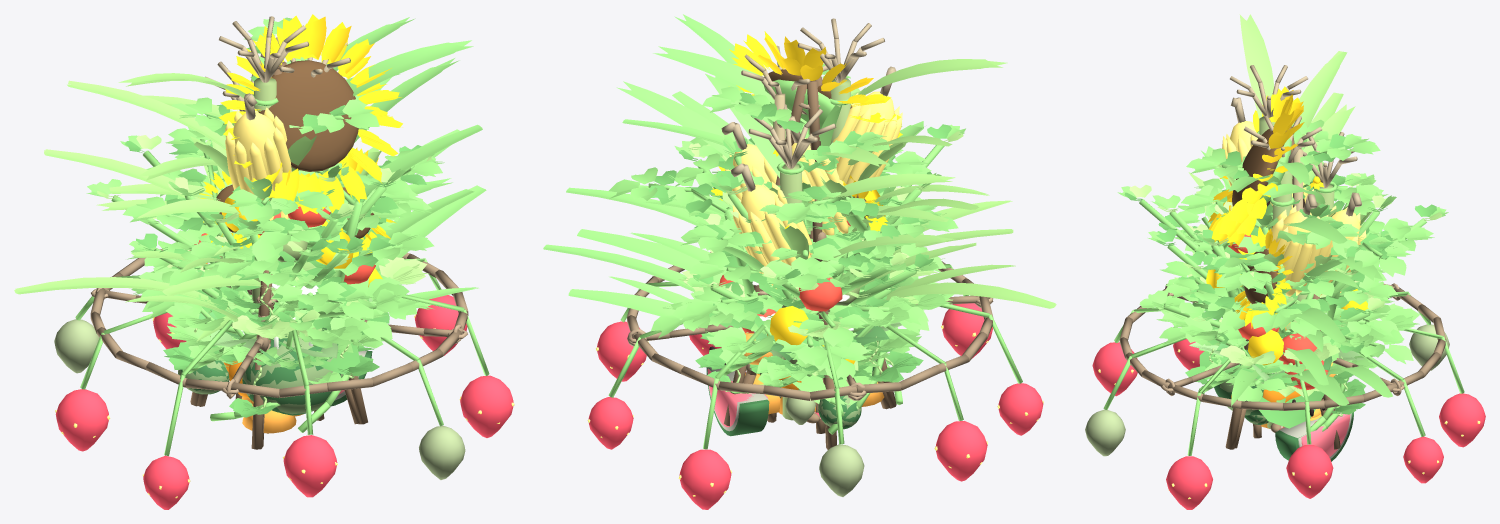
File: cay-trong.glb
The picture shows the model from 3 angles, left to right: view 1: azimuth 30°, elevation 25°; view 2: azimuth 150°, elevation 25°; view 3: azimuth 270°, elevation 25°; orthographic projection. The views are drawn at different scales.
Visible parts, largest first — view 1: Cay_Dau_GD3, Cay_Ngo_GD3, Cay_CaChua_GD3, Cay_HuongDuong_GD3, Cay_CaRot_GD3, Cay_CaChua_GD2, Cay_BiNgo_GD3, Cay_DuaHau_GD3, Cay_Ngo_GD2, Cay_CaRot_GD2, Cay_BiNgo_GD2, Cay_Cai_GD3 (+1 smaller); view 2: Cay_Ngo_GD3, Cay_Dau_GD3, Cay_CaChua_GD3, Cay_CaChua_GD2, Cay_HuongDuong_GD3, Cay_CaRot_GD3, Cay_BiNgo_GD3, Cay_DuaHau_GD3, Cay_Ngo_GD2, Cay_BiNgo_GD2, Cay_Dau_GD2, Cay_CaRot_GD2 (+1 smaller); view 3: Cay_Dau_GD3, Cay_CaChua_GD3, Cay_Ngo_GD3, Cay_HuongDuong_GD3, Cay_CaRot_GD3, Cay_CaChua_GD2, Cay_BiNgo_GD3, Cay_DuaHau_GD3, Cay_CaRot_GD2, Cay_Ngo_GD2, Cay_Cai_GD3, Cay_BiNgo_GD2.
Part boxes in pixels (bbox=[...]): Cay_Dau_GD3: bbox=[54, 249, 514, 509]; Cay_Ngo_GD3: bbox=[14, 16, 486, 315]; Cay_CaChua_GD3: bbox=[122, 17, 444, 323]; Cay_HuongDuong_GD3: bbox=[190, 14, 402, 374]; Cay_CaRot_GD3: bbox=[86, 80, 434, 433]; Cay_CaChua_GD2: bbox=[141, 166, 406, 341]; Cay_BiNgo_GD3: bbox=[163, 61, 383, 449]; Cay_DuaHau_GD3: bbox=[167, 302, 372, 415]; Cay_Ngo_GD2: bbox=[125, 199, 478, 341]; Cay_CaRot_GD2: bbox=[197, 222, 398, 340]; Cay_BiNgo_GD2: bbox=[197, 293, 359, 447]; Cay_Cai_GD3: bbox=[198, 298, 372, 362]; Cay_Ngo_GD3: bbox=[543, 14, 1056, 420]; Cay_Dau_GD3: bbox=[587, 249, 1043, 509]; Cay_CaChua_GD3: bbox=[609, 64, 958, 379]; Cay_CaChua_GD2: bbox=[672, 195, 928, 371]; Cay_HuongDuong_GD3: bbox=[711, 31, 902, 405]; Cay_CaRot_GD3: bbox=[674, 124, 965, 414]; Cay_BiNgo_GD3: bbox=[695, 76, 918, 449]; Cay_DuaHau_GD3: bbox=[700, 329, 921, 436]; Cay_Ngo_GD2: bbox=[609, 160, 1015, 398]; Cay_BiNgo_GD2: bbox=[707, 230, 923, 448]; Cay_Dau_GD2: bbox=[756, 313, 897, 424]; Cay_CaRot_GD2: bbox=[687, 218, 919, 317]; Cay_Dau_GD3: bbox=[1085, 267, 1485, 509]; Cay_CaChua_GD3: bbox=[1157, 119, 1434, 401]; Cay_Ngo_GD3: bbox=[1196, 14, 1392, 428]; Cay_HuongDuong_GD3: bbox=[1199, 86, 1344, 428]; Cay_CaRot_GD3: bbox=[1117, 173, 1448, 428]; Cay_CaChua_GD2: bbox=[1159, 218, 1412, 390]; Cay_BiNgo_GD3: bbox=[1185, 126, 1376, 449]; Cay_DuaHau_GD3: bbox=[1205, 318, 1383, 461]; Cay_CaRot_GD2: bbox=[1139, 275, 1390, 335]; Cay_Ngo_GD2: bbox=[1188, 172, 1358, 406]; Cay_Cai_GD3: bbox=[1189, 320, 1366, 380]; Cay_BiNgo_GD2: bbox=[1234, 364, 1365, 448].
Size of the model in its own units: 2.12 by 1.68 by 1.71.
